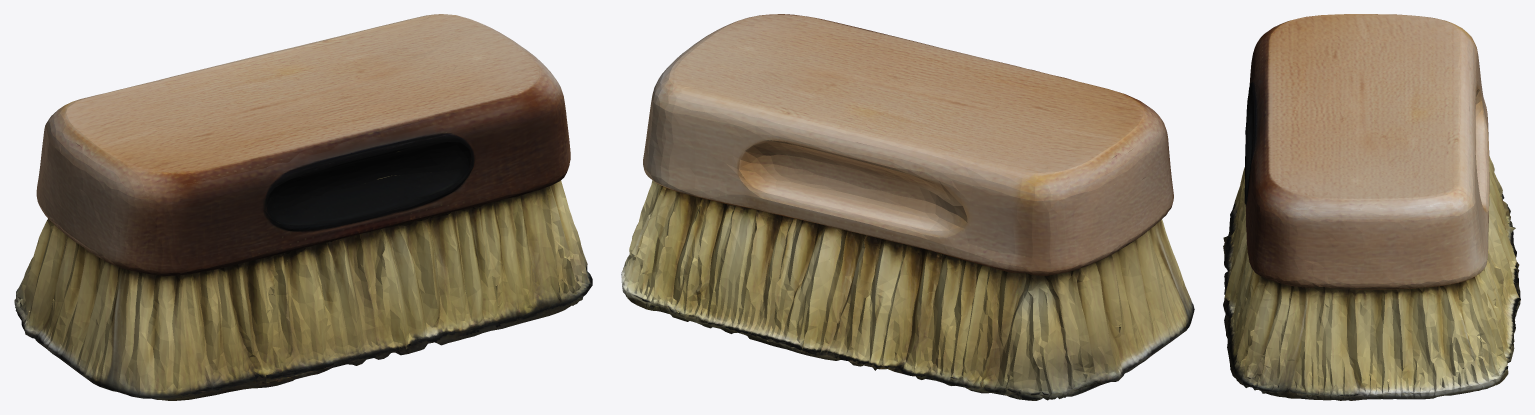
The picture shows the model from 3 angles, left to right: view 1: azimuth 30°, elevation 25°; view 2: azimuth 150°, elevation 25°; view 3: azimuth 270°, elevation 25°; orthographic projection. The views are drawn at different scales.
Parts seen in each view (by area): view 1: world; view 2: world; view 3: world.
Part boxes in pixels (<box>): world: <box>14,14,592,400</box>; world: <box>621,14,1194,400</box>; world: <box>1223,14,1520,400</box>.
Bounding box in the file's own units: 1 × 0.4074 × 0.582.
Materials: 1 (1 with a texture image).
